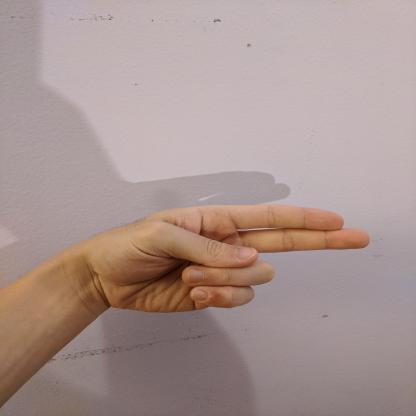H: (87, 200, 374, 317)
